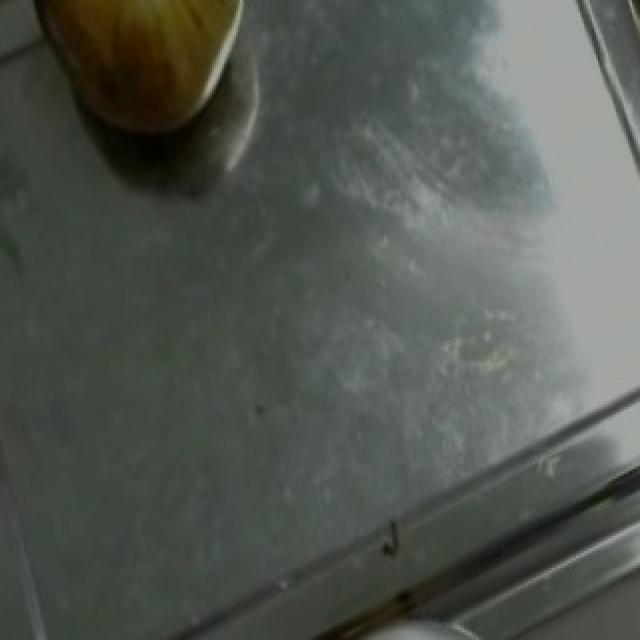fruit: (16, 0, 250, 164)
